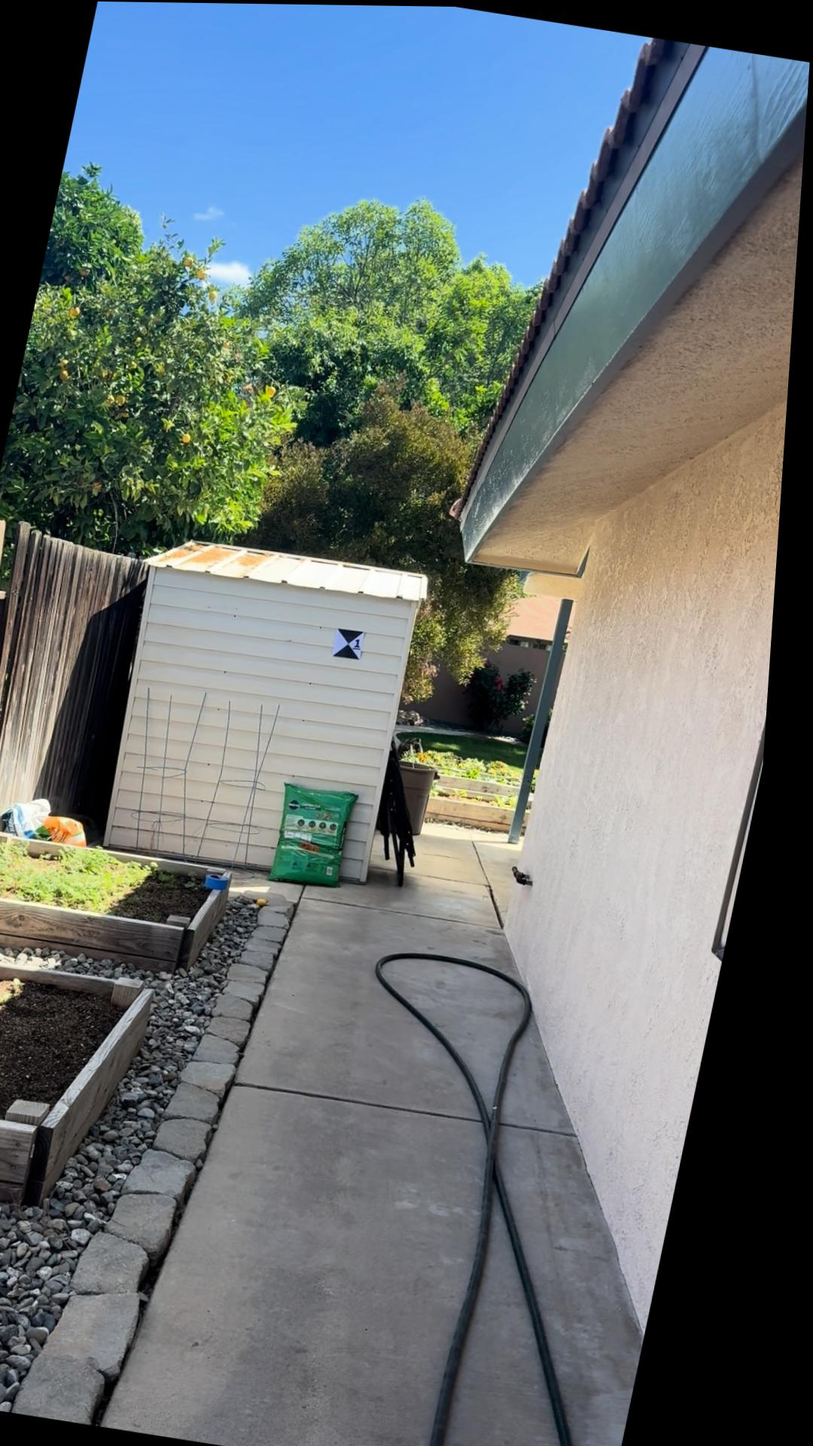target1: (330, 625, 367, 659)
